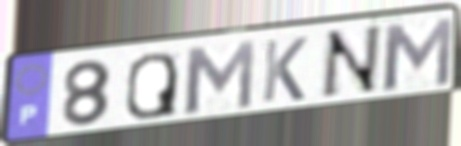8: (59, 58, 113, 129)
K: (259, 35, 310, 105)
M: (380, 14, 456, 94), (182, 37, 258, 117)
N: (316, 22, 386, 103)
Q: (122, 50, 179, 122)
